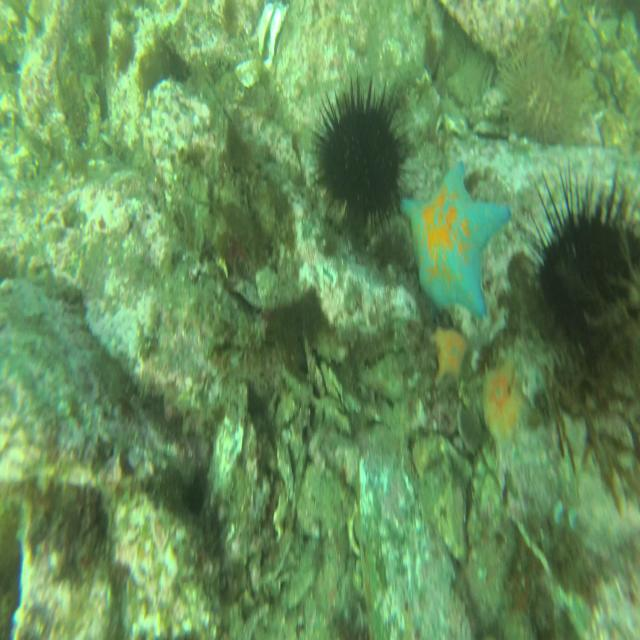echinus: (532, 178, 637, 332), (315, 86, 404, 235)
starfish: (402, 164, 511, 320)
